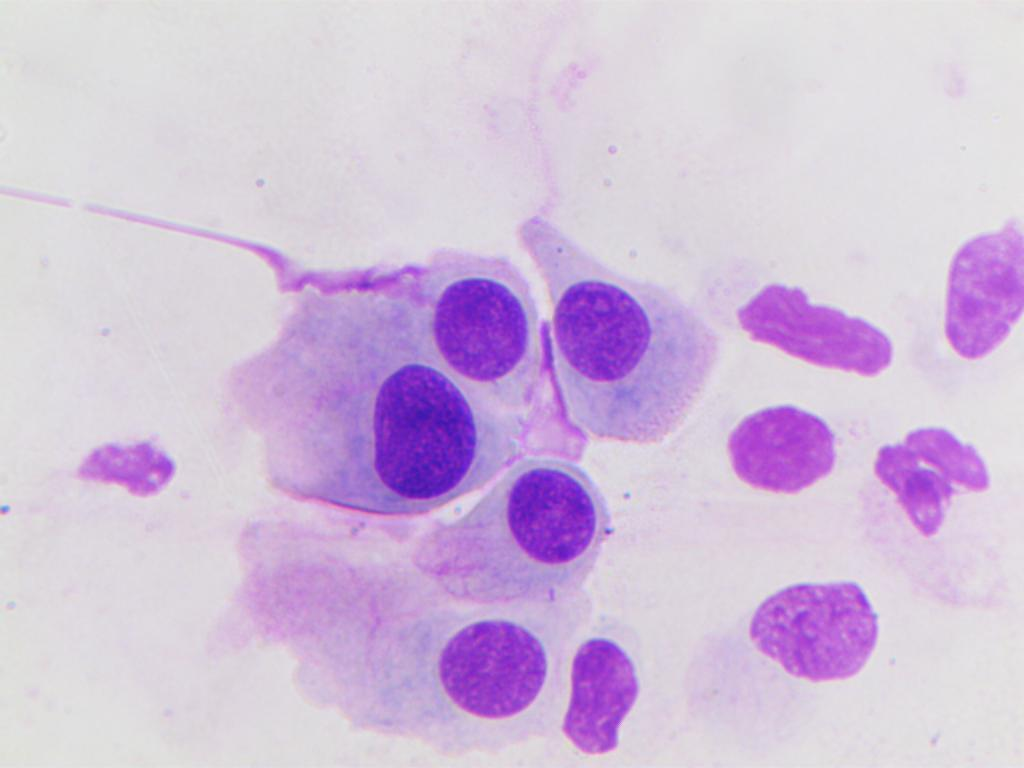artifact: (732, 561, 887, 699), (739, 278, 892, 382), (939, 214, 1024, 386), (873, 422, 992, 540), (721, 402, 844, 498), (64, 426, 185, 522), (561, 632, 644, 762)
epithelial: (519, 199, 712, 444), (344, 610, 552, 733), (316, 361, 481, 496), (482, 461, 608, 590), (428, 255, 531, 384)
